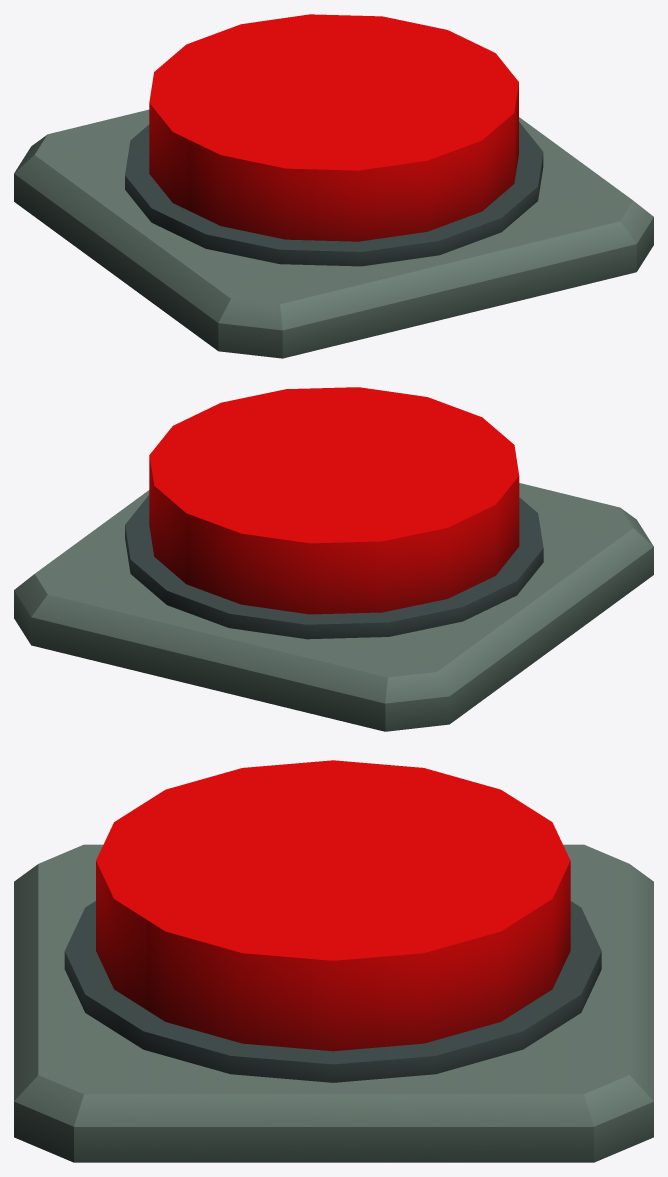
File: switch_001.fbx
3 renders of one model, top to bottom at view 1: azimuth 30°, elevation 25°; view 2: azimuth 150°, elevation 25°; view 3: azimuth 270°, elevation 25°, orthographic. The views are drawn at different scales.
Parts seen in each view (by area): view 1: switch.001; view 2: switch.001; view 3: switch.001.
Boxes of the visible parts, x1,y1,x2,y2 form: switch.001: (14, 14, 653, 358); switch.001: (14, 387, 653, 731); switch.001: (14, 760, 653, 1162).
Size of the model in its own units: 174 by 50.15 by 174.
